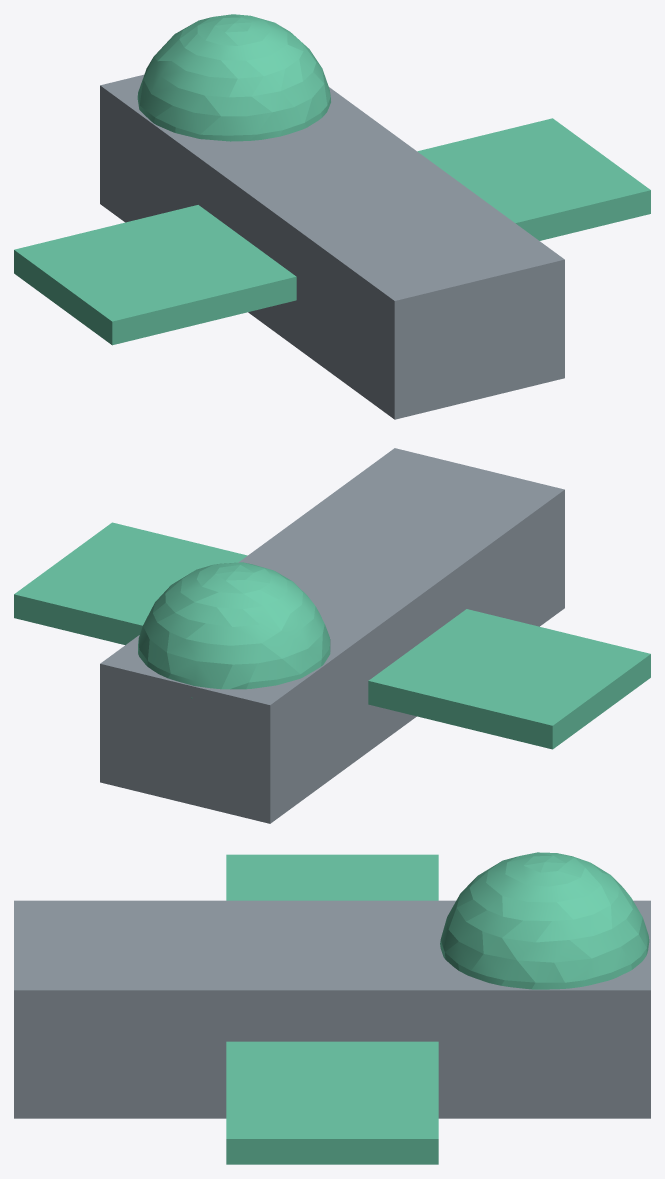
Rendered from CO_KawasemiDrone_LOD1.glb.
3 renders of one model, top to bottom at view 1: azimuth 30°, elevation 25°; view 2: azimuth 150°, elevation 25°; view 3: azimuth 270°, elevation 25°, orthographic. The views are drawn at different scales.
Visible parts, largest first — view 1: Cockpit; view 2: Cockpit; view 3: Cockpit.
Boxes of the visible parts, left/top/right/bottom form: Cockpit: left=14, top=14, right=650, bottom=419; Cockpit: left=14, top=448, right=650, bottom=823; Cockpit: left=14, top=852, right=650, bottom=1164.
Bounding box in the file's own units: 190 × 66 × 180.
